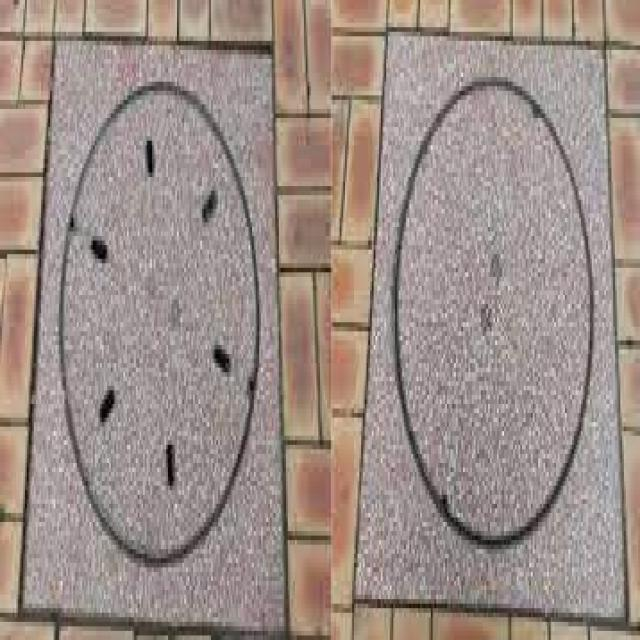Sewer Cover: (14, 19, 320, 640), (361, 15, 633, 640)
